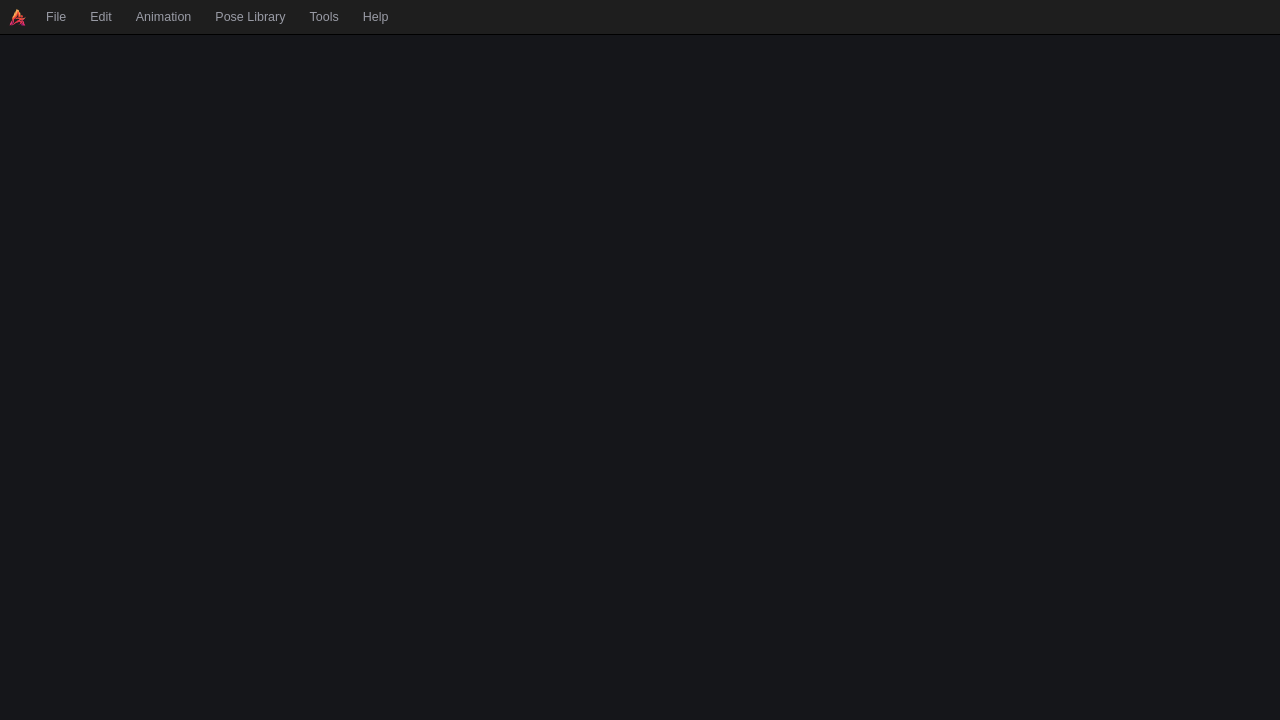
title-bar project saves › shows a persistent error dialog for title bar Save failures
Step 1. Click the button "File" → point(56, 17), box [34, 0, 78, 34]
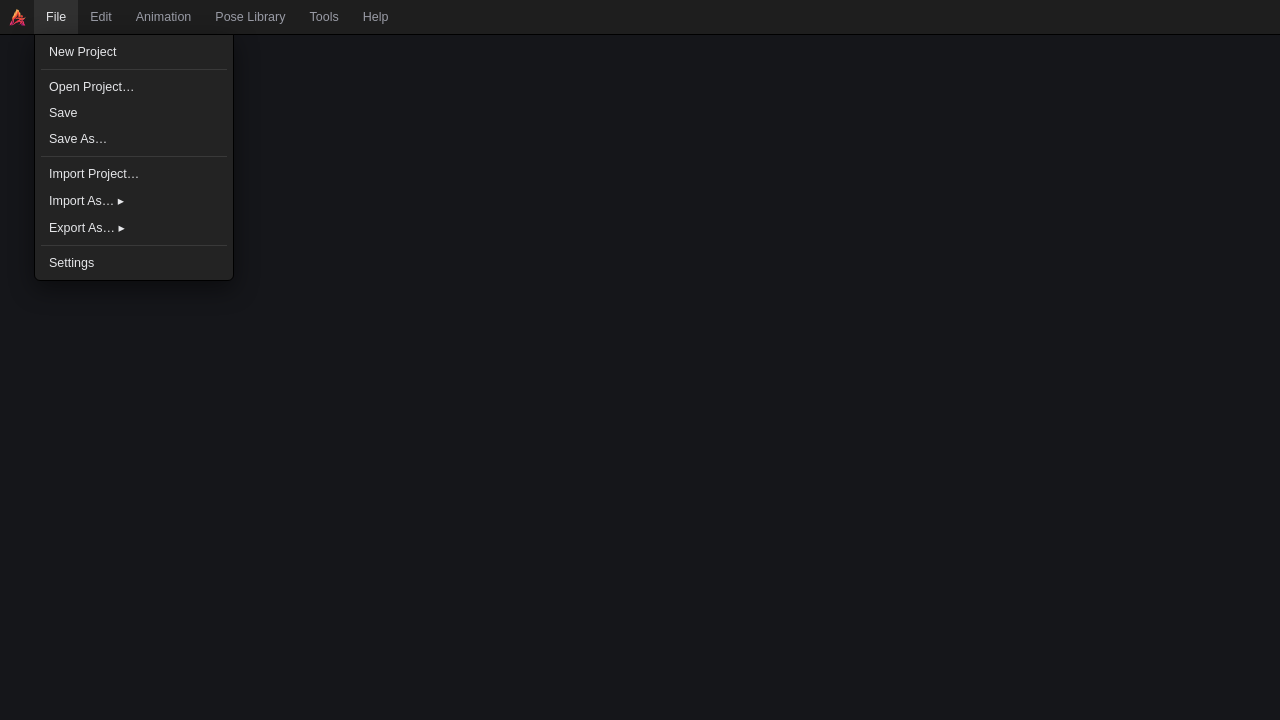
Step 2. Click the menu item "Save" → point(134, 113), box [39, 100, 229, 126]
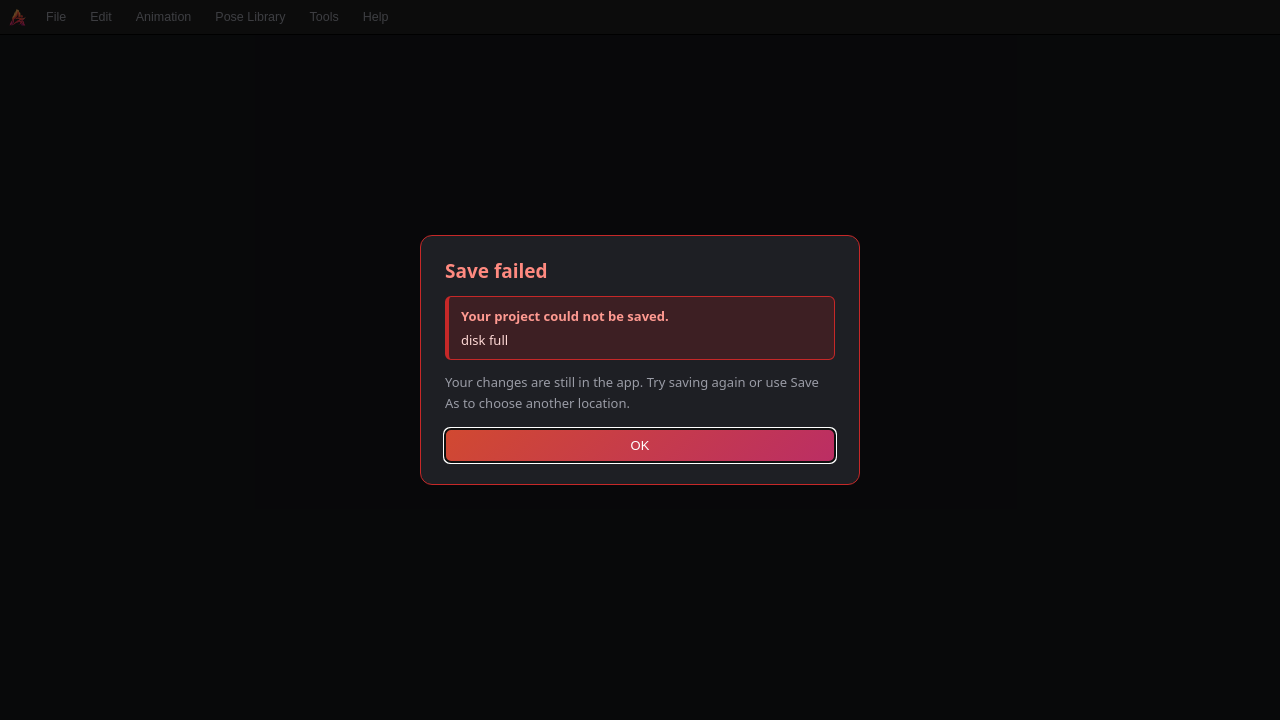
Check: the dialog shows "Save failed", box [445, 258, 548, 284]
Check: the dialog shows "disk full", box [461, 331, 508, 349]
Check: the dialog shows "changes are still in the app", box [445, 373, 819, 412]
Step 3. Press Escape in the button "OK", box [445, 429, 835, 462]
Check: the dialog is shown, box [420, 235, 860, 485]
Step 4. Click the button "OK" → point(640, 446), box [445, 429, 835, 462]
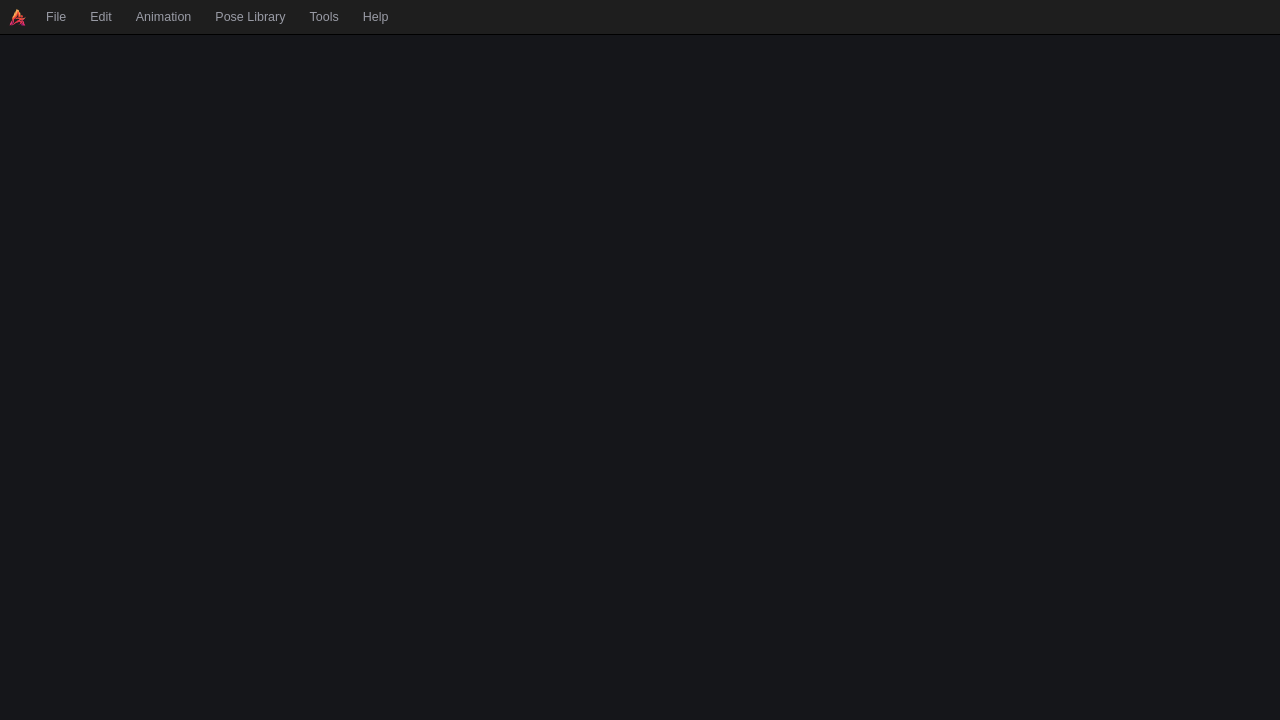
Check: the dialog is gone
